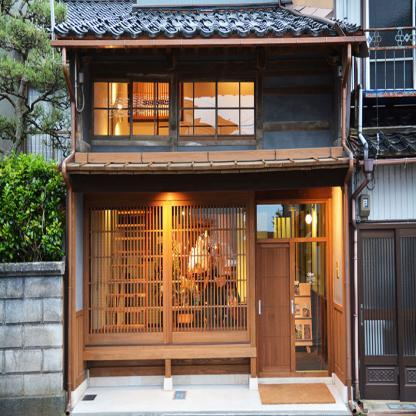Building Outline: (46, 0, 370, 411)
Door: (254, 242, 289, 371)
Facade: (71, 38, 346, 386)
Floor Slab: (83, 174, 335, 184)
Ground Floor: (83, 184, 335, 386)
Roof: (46, 0, 365, 39), (59, 147, 350, 174)
Top Floor: (83, 37, 342, 173)
Window: (171, 207, 248, 334), (87, 207, 164, 334), (179, 79, 256, 140), (93, 79, 170, 140), (294, 241, 328, 372), (257, 203, 326, 238)
